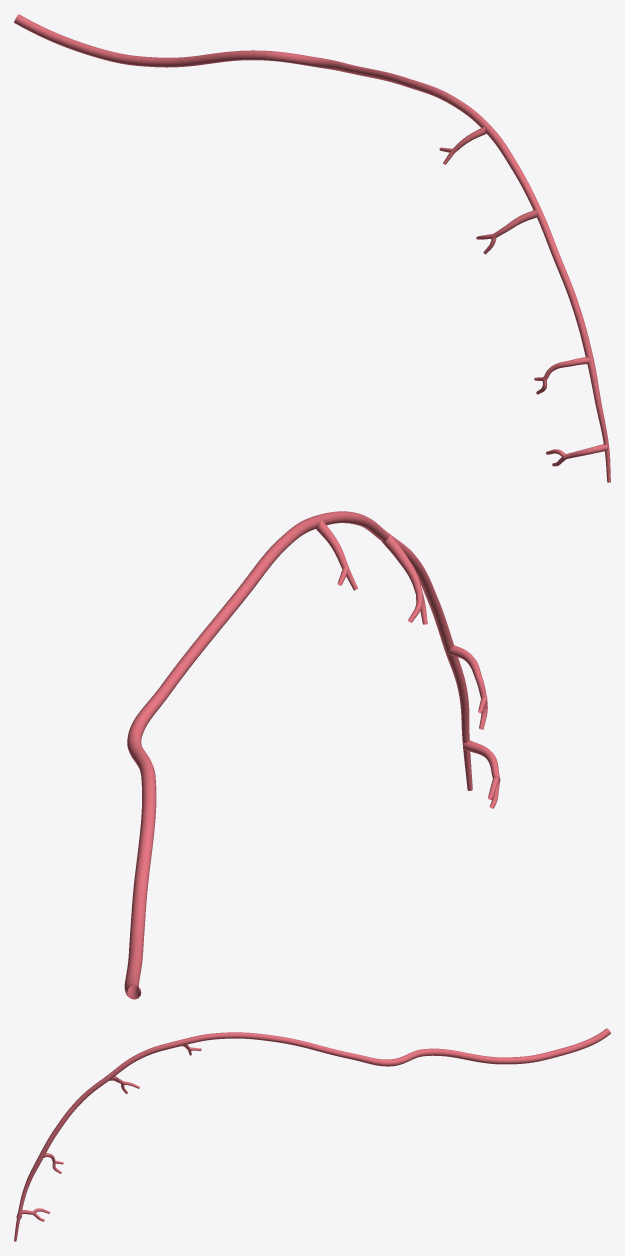
3 views of the same model, one above another, from view 1: azimuth 30°, elevation 25°; view 2: azimuth 150°, elevation 25°; view 3: azimuth 270°, elevation 25° (orthographic). The views are drawn at different scales.
Parts seen in each view (by area): view 1: ZA_03334a3b814abfe8; view 2: ZA_03334a3b814abfe8; view 3: ZA_03334a3b814abfe8.
Part boxes in pixels (x1,y1,x2,y2): ZA_03334a3b814abfe8: (14, 14, 610, 482); ZA_03334a3b814abfe8: (124, 511, 500, 999); ZA_03334a3b814abfe8: (14, 1028, 610, 1241).
Bounding box in the file's own units: 0.0343 × 0.0502 × 0.1335.
